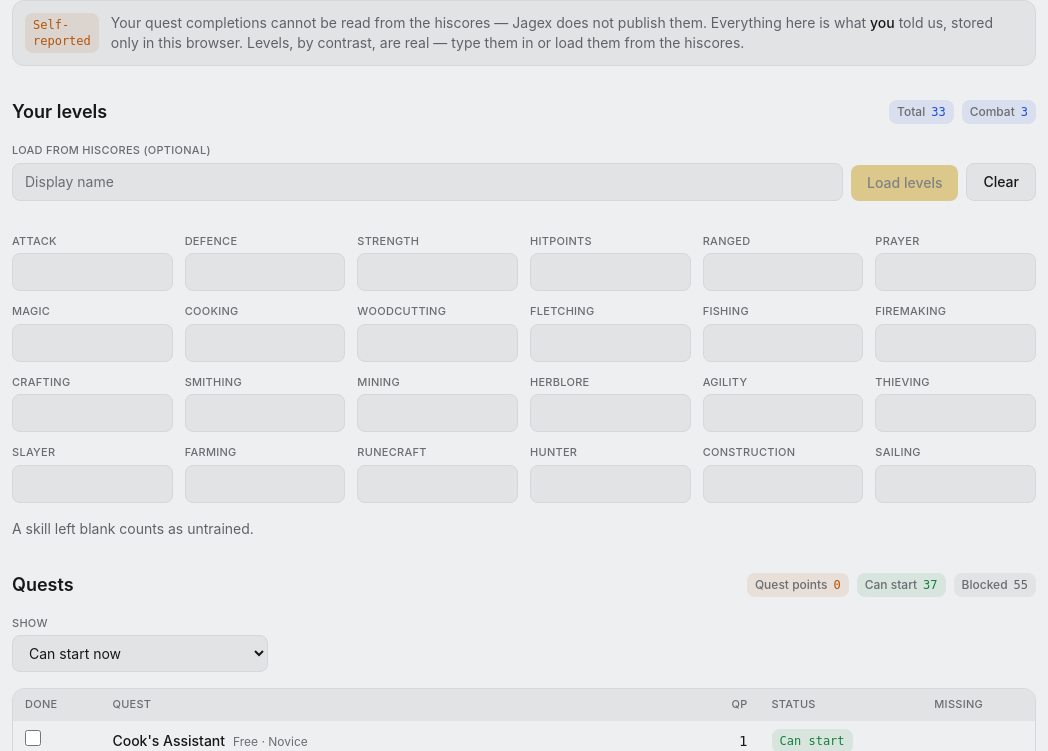
Test: QuestPlanner — level entry › rejects 100 (above the maximum) with a message rather than NaN
This screenshot has width=1048, height=751.
Type "100" into the field labelled "Mining".
click(438, 413); type("100")  # box [357,394,518,432]
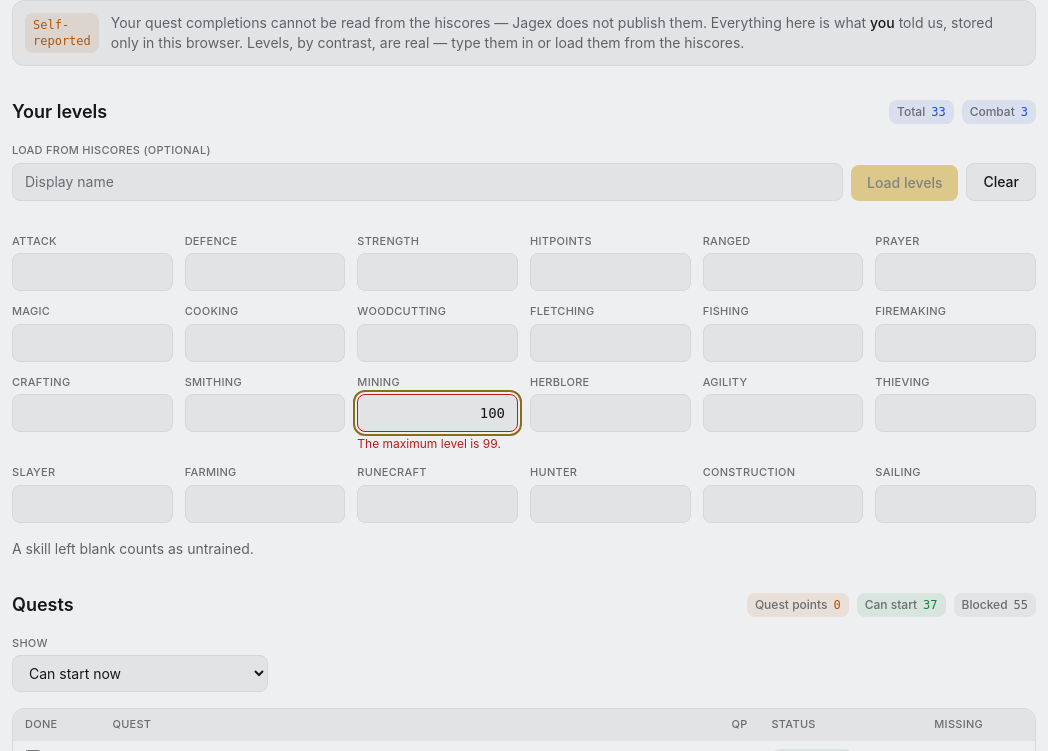
Result: the text "The maximum level is 99." is shown at [357,436,518,452]
